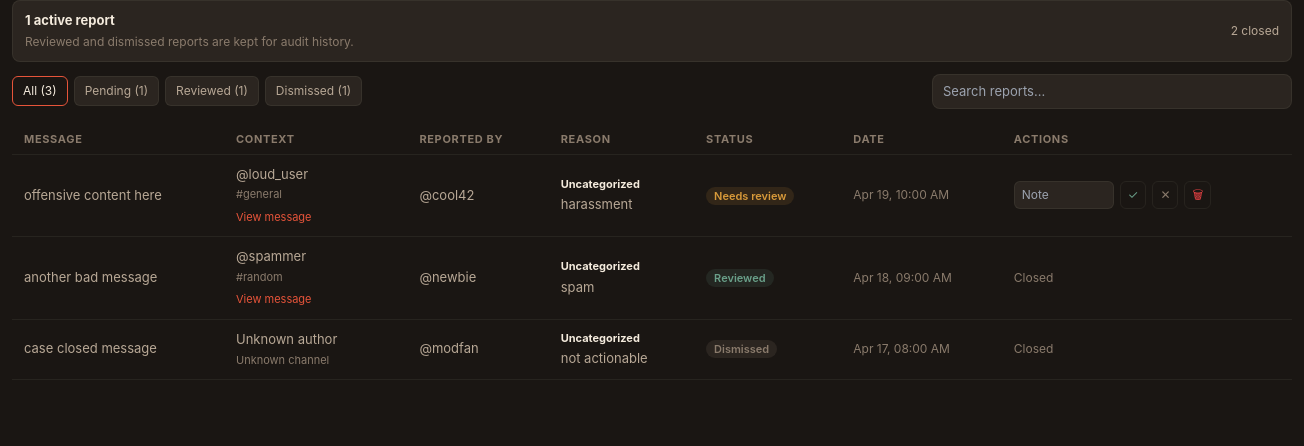
Scenario: ReportsTable — actions › shows success feedback after deleting a reported message
This screenshot has width=1304, height=446.
Click the button titled "delete message" at [1198, 195], box x1=1184 y1=181 x2=1211 y2=209
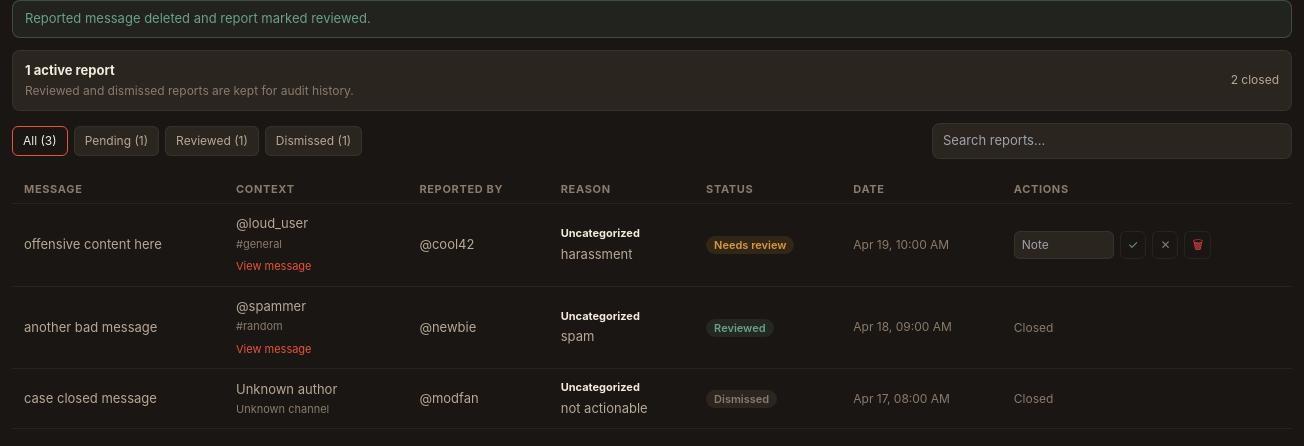
Expected: the text "Reported message deleted and report marked reviewed." is shown, x1=12 y1=0 x2=1292 y2=38
